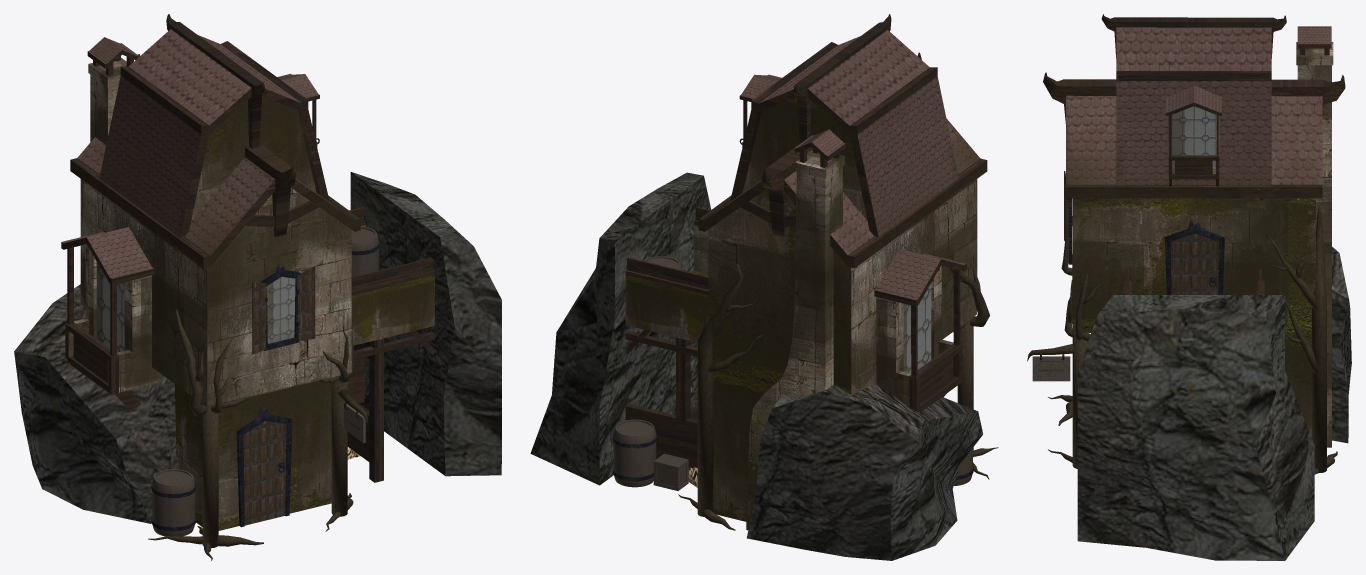
Rendered from hl_club.glb.
The picture shows the model from 3 angles, left to right: view 1: azimuth 30°, elevation 25°; view 2: azimuth 150°, elevation 25°; view 3: azimuth 270°, elevation 25°; orthographic projection. The views are drawn at different scales.
Visible parts, largest first — view 1: Forget_Caroline_Gr1012, Roches, Extension, Ecurie, Arbre, Portes, Fenetre, Tonneau, Pancarte; view 2: Forget_Caroline_Gr1012, Roches, Extension, Ecurie, Arbre, Tonneau, Boites; view 3: Forget_Caroline_Gr1012, Roches, Arbre, Extension, Portes, Pancarte, Fenetre.
Part boxes in pixels (x1,y1,x2,y2): Forget_Caroline_Gr1012: (70,14,360,530); Roches: (14,172,501,523); Extension: (61,73,319,409); Ecurie: (347,207,434,482); Arbre: (148,309,367,560); Portes: (236,406,292,527); Fenetre: (252,264,315,354); Tonneau: (151,226,379,536); Pancarte: (344,402,365,443); Forget_Caroline_Gr1012: (698,14,987,530); Roches: (530,172,982,560); Extension: (739,74,966,411); Ecurie: (625,207,710,467); Arbre: (678,263,998,530); Tonneau: (612,256,973,487); Boites: (653,453,688,490); Forget_Caroline_Gr1012: (1043,14,1345,447); Roches: (1077,247,1351,560); Arbre: (1027,205,1337,474); Extension: (1166,85,1221,186); Portes: (1165,219,1224,294); Pancarte: (1032,353,1070,381); Fenetre: (1064,171,1071,269).
Size of the model in its own units: 8.98 by 9.3 by 6.47.
1 material, 1 textured.
